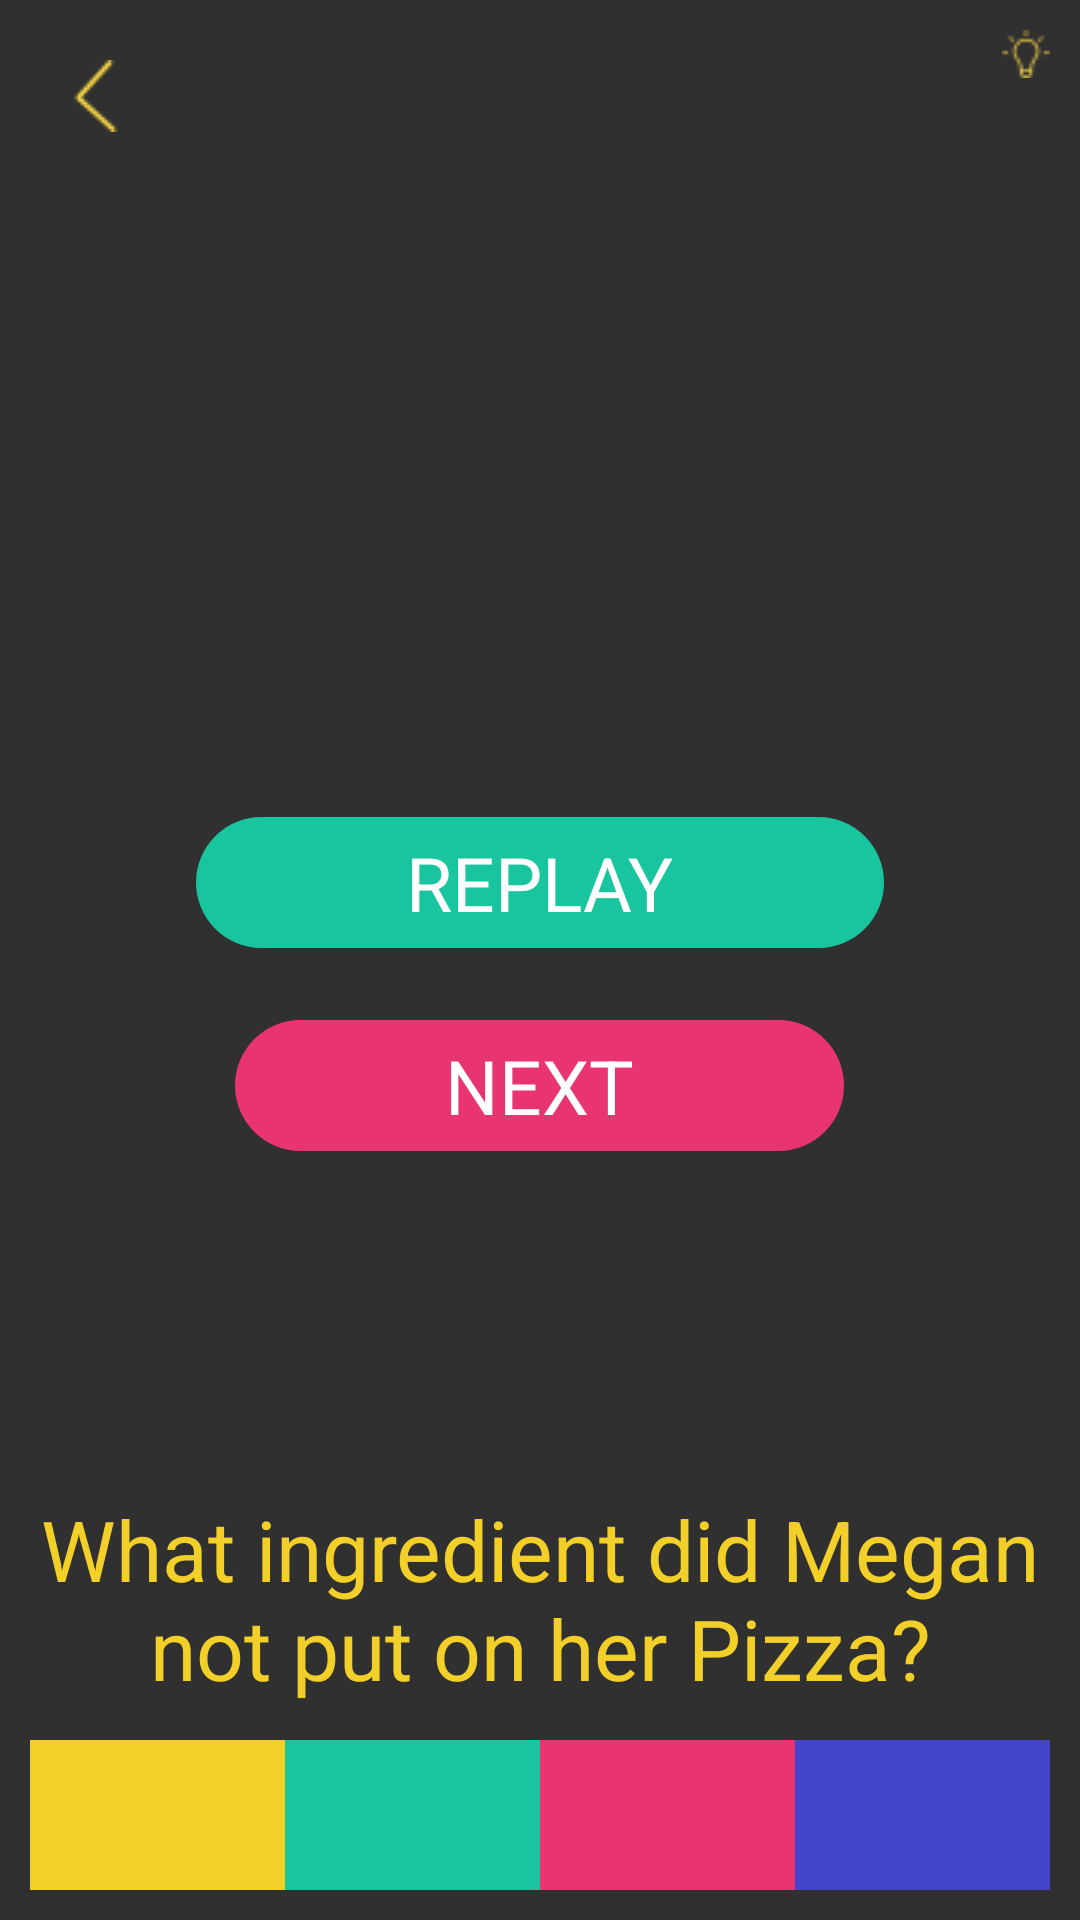

Icon click points for this 1080 × 1920 phone screenshot, format (x,y):
arrow: (95,96)
lightbulb: (1026,54)
